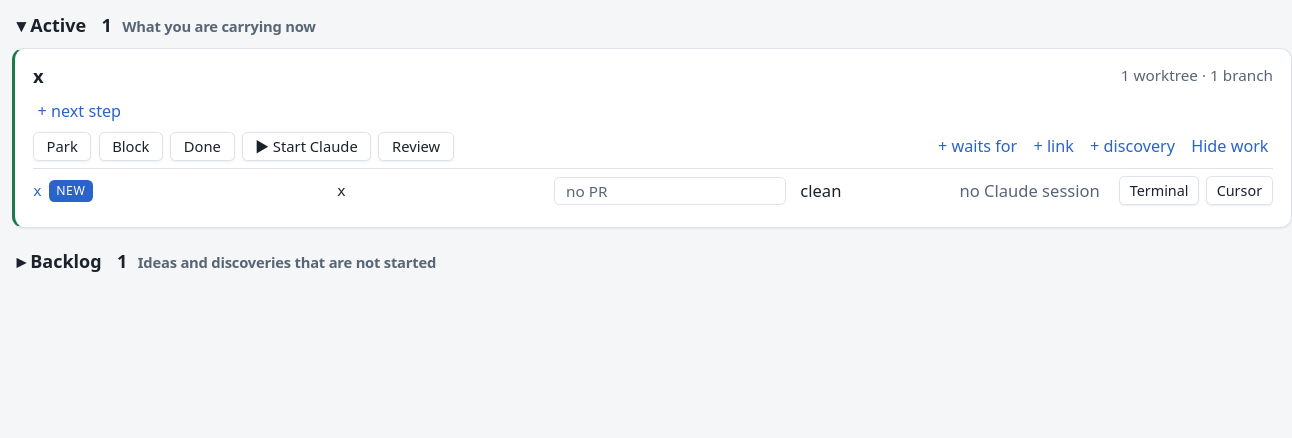
Test: TicketBoard › keeps what is not happening now folded away until asked
Click the button "▸ Backlog" at coordinates (59, 261), box [12, 248, 106, 275]
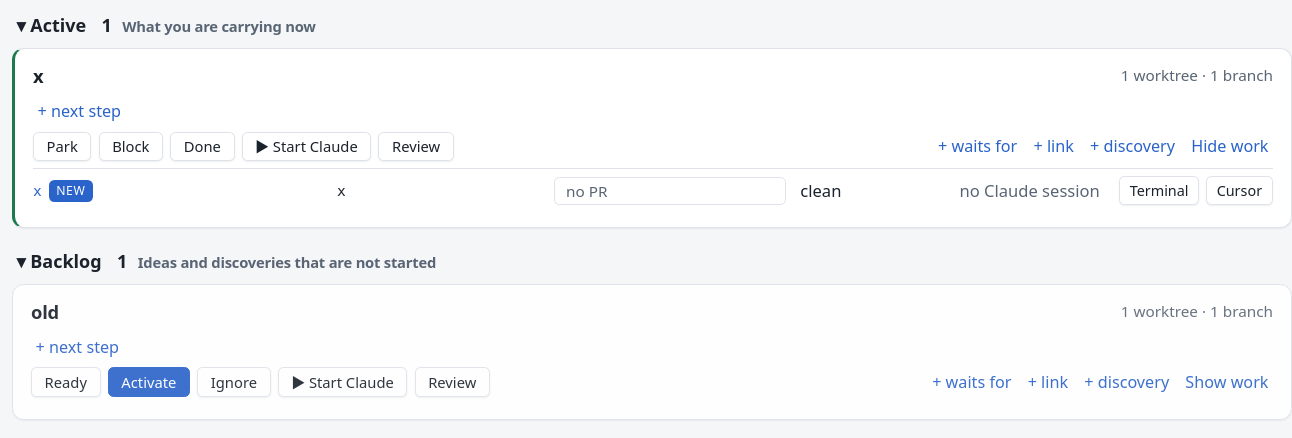
Expected: the element that starts with "old" is shown, [12, 284, 1291, 420]
